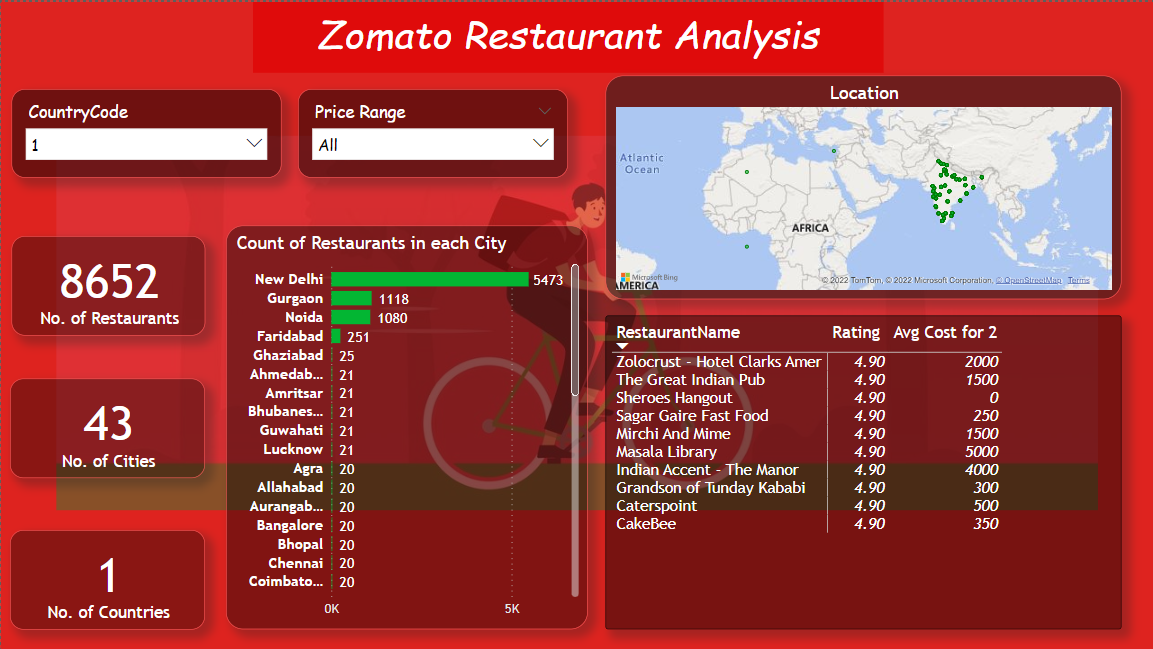

Layout of this report page (visuals, bound fields, positions):
{"tool":"powerbi","page":{"name":"Page 1","canvas":[1280,720],"ordinal":0},"visuals":[{"type":"card","fields":{"Values":["Count(ZomatoData.RestaurantID)"]},"box":[12.1,259.3,215.4,110.7],"z":0},{"type":"card","fields":{"Values":["Count(ZomatoData.City)"]},"box":[10.6,418.6,216.9,110.7],"z":1000},{"type":"card","fields":{"Values":["Count(ZomatoData.CountryCode)"]},"box":[10.6,586.9,216.9,110.7],"z":2000},{"type":"slicer","fields":{"Values":["ZomatoData.CountryCode"]},"box":[12.1,97.1,300.3,98.6],"z":3000},{"type":"slicer","fields":{"Values":["ZomatoData.Price_range"]},"box":[330.6,97.1,300.3,98.6],"z":4000},{"type":"clusteredBarChart","title":"Count of Restaurants in each City","fields":{"Category":["ZomatoData.City"],"Y":["CountNonNull(ZomatoData.RestaurantID)"]},"box":[250.2,248.7,401.9,448.9],"z":6000},{"type":"pivotTable","fields":{"Rows":["ZomatoData.RestaurantName"],"Values":["Avg(ZomatoData.Rating)","Sum(ZomatoData.Average_Cost_for_two)"]},"box":[671.8,348.8,573.3,348.8],"z":7000},{"type":"textbox","box":[280.6,0,700.7,78.9],"z":8000},{"type":"map","title":"Location","fields":{"Y":["ZomatoData.Latitude"],"X":["ZomatoData.Longitude"]},"box":[671.8,81.9,573.3,248.7],"z":9000}]}

Visuals, with their boxes in screenshot pixels (x1, y1, x2, y2), scaled from the page's 1280x720 canvas onto the 1153x649 screenshot:
card - Count(ZomatoData.RestaurantID): (x1=11, y1=234, x2=205, y2=334)
card - Count(ZomatoData.City): (x1=10, y1=377, x2=205, y2=477)
card - Count(ZomatoData.CountryCode): (x1=10, y1=529, x2=205, y2=629)
slicer - ZomatoData.CountryCode: (x1=11, y1=88, x2=281, y2=176)
slicer - ZomatoData.Price_range: (x1=298, y1=88, x2=568, y2=176)
"Count of Restaurants in each City" clusteredBarChart: (x1=225, y1=224, x2=587, y2=629)
pivotTable - ZomatoData.RestaurantName x Avg(ZomatoData.Rating): (x1=605, y1=314, x2=1122, y2=629)
textbox: (x1=253, y1=0, x2=884, y2=71)
"Location" map: (x1=605, y1=74, x2=1122, y2=298)
